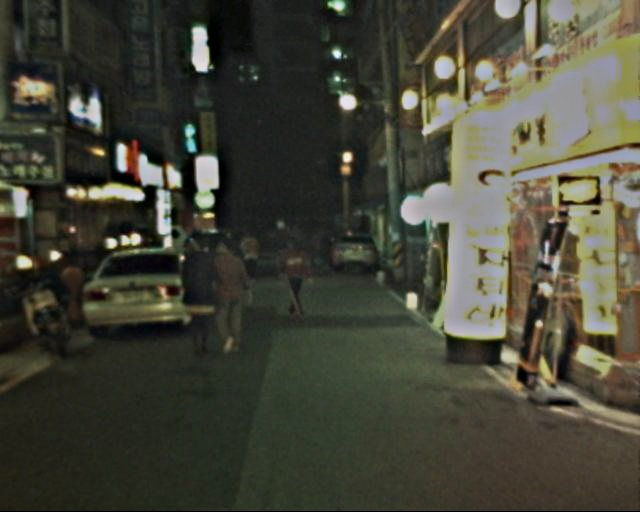person: (183, 226, 230, 363), (206, 226, 254, 356), (280, 225, 317, 316), (240, 226, 265, 283), (316, 228, 336, 280)
